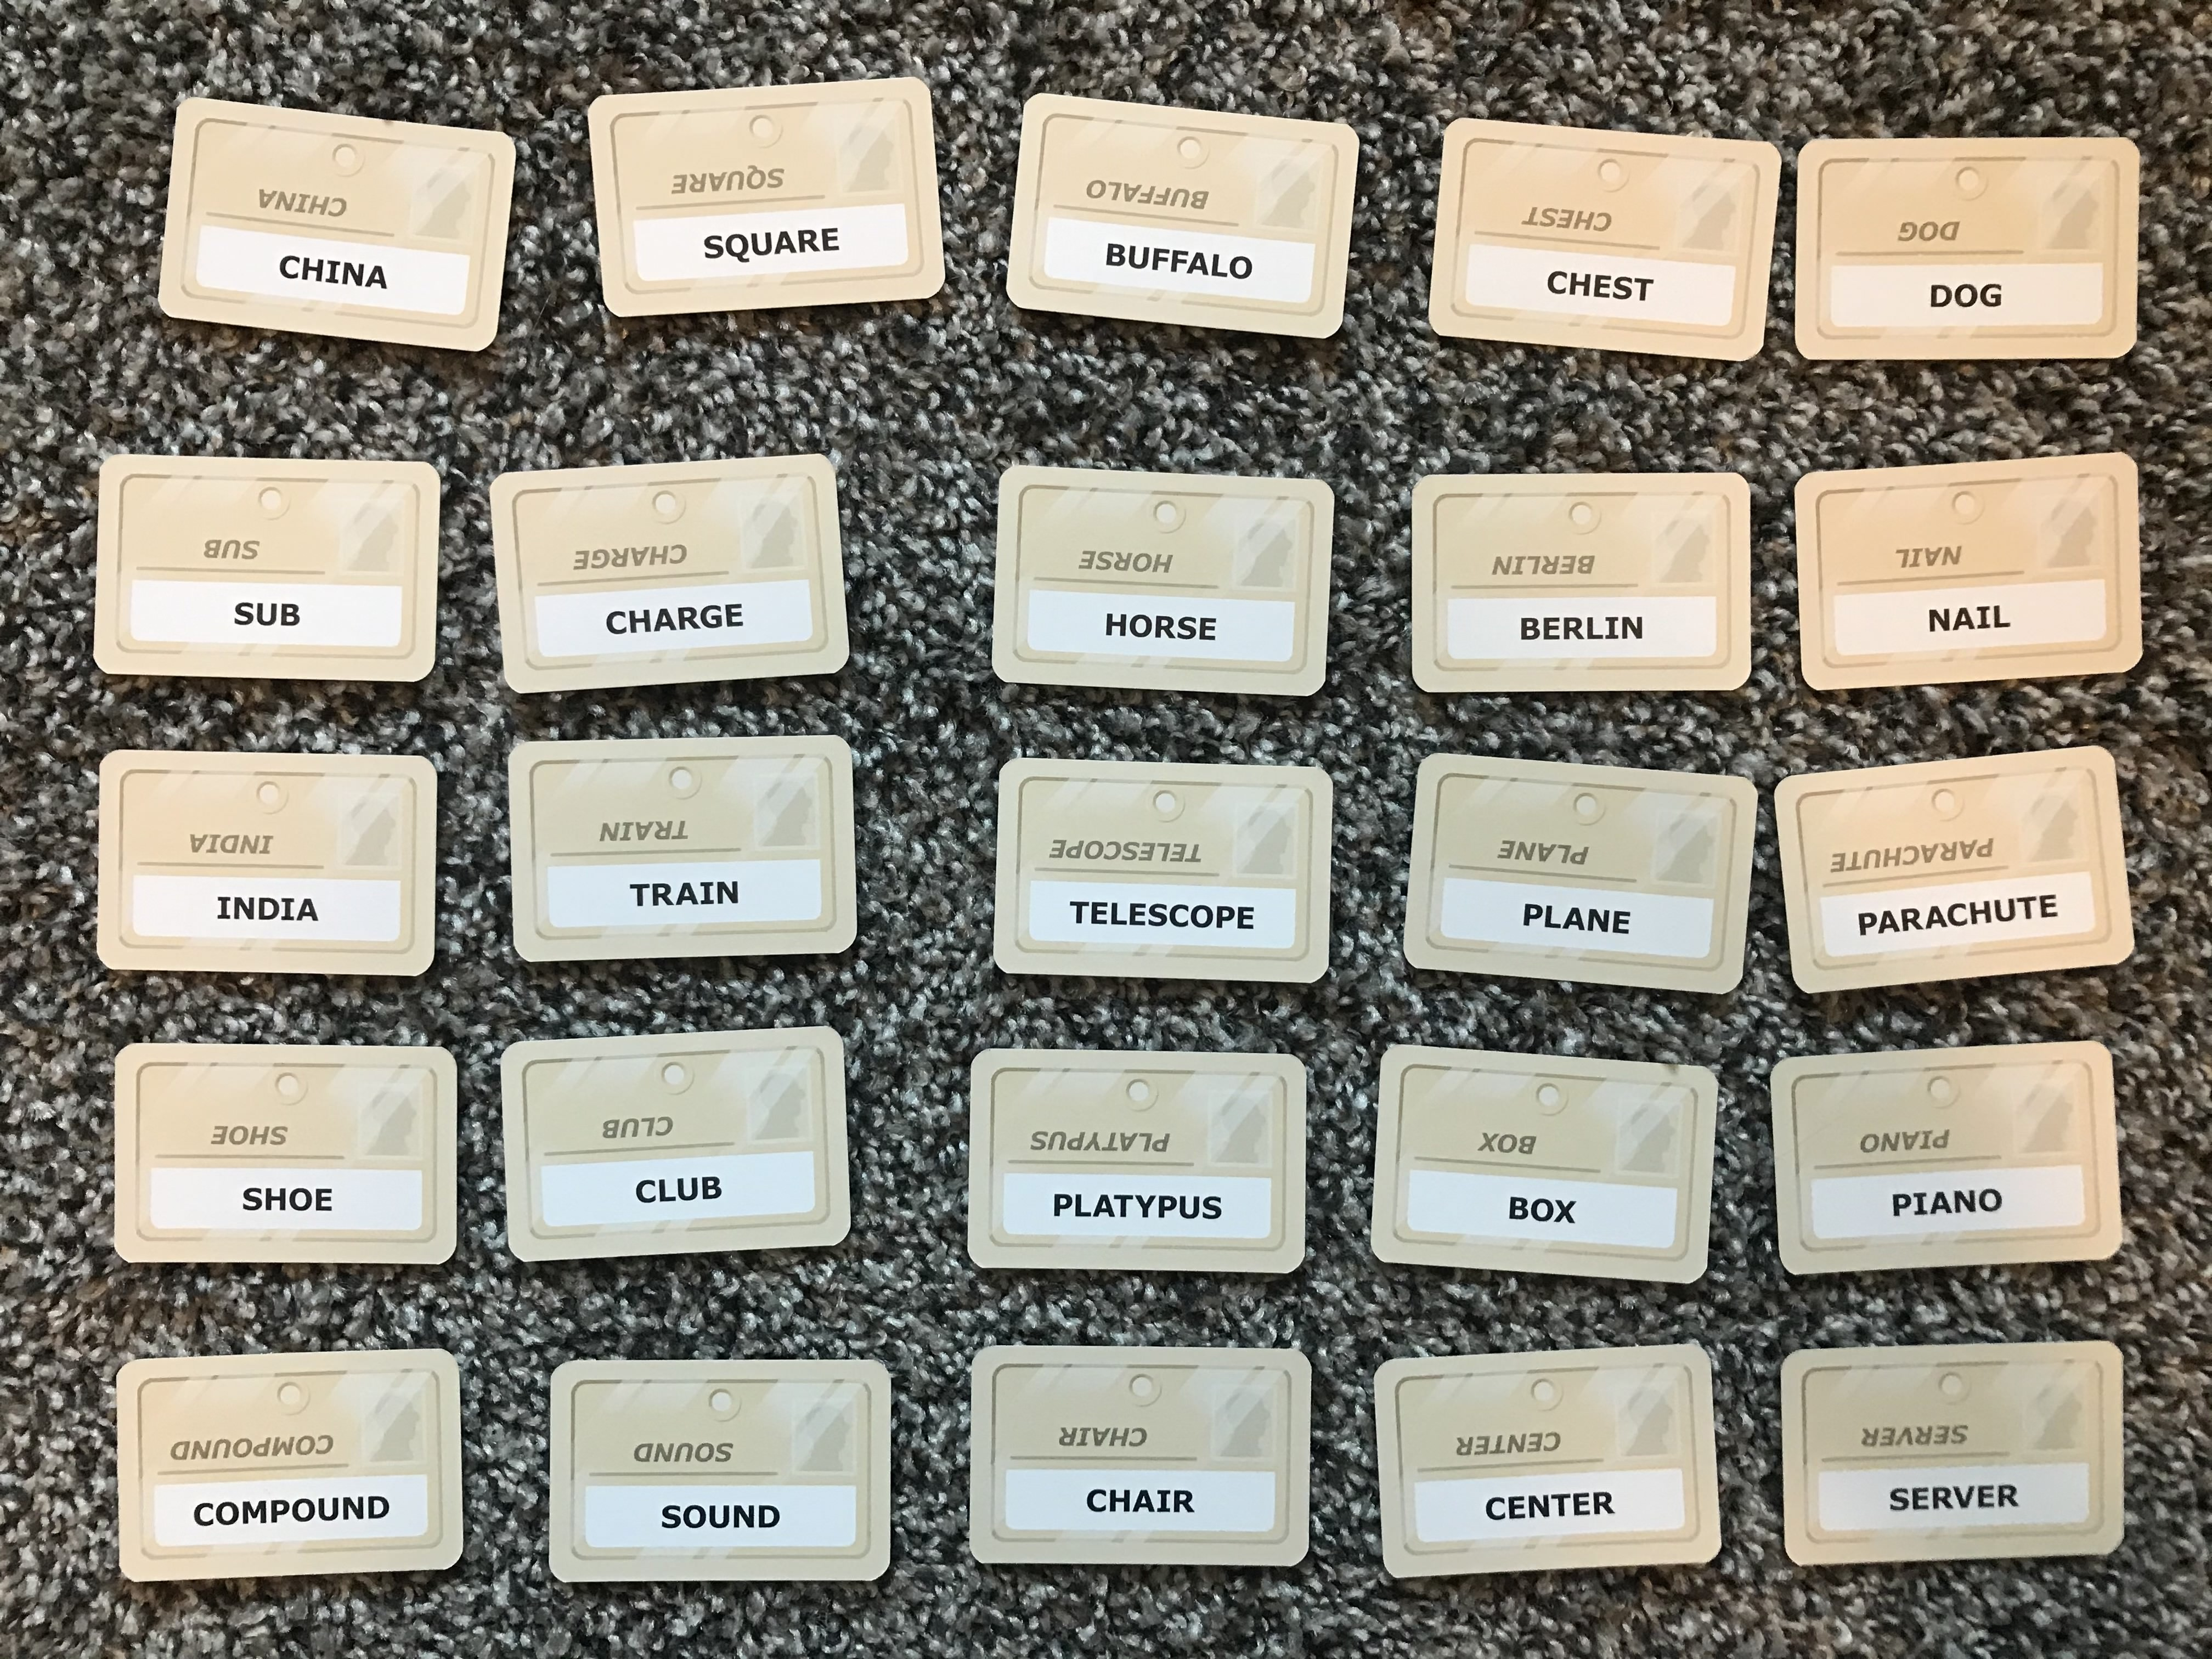A: (1921, 896, 1947, 946), (1946, 603, 1977, 638), (293, 894, 326, 925), (1129, 1483, 1158, 1518), (1557, 904, 1585, 941), (364, 261, 392, 296), (672, 875, 697, 913), (1928, 1190, 1952, 1229), (772, 227, 796, 261), (1876, 904, 1897, 943), (1092, 1190, 1113, 1229), (653, 601, 678, 633), (1186, 251, 1209, 281)
